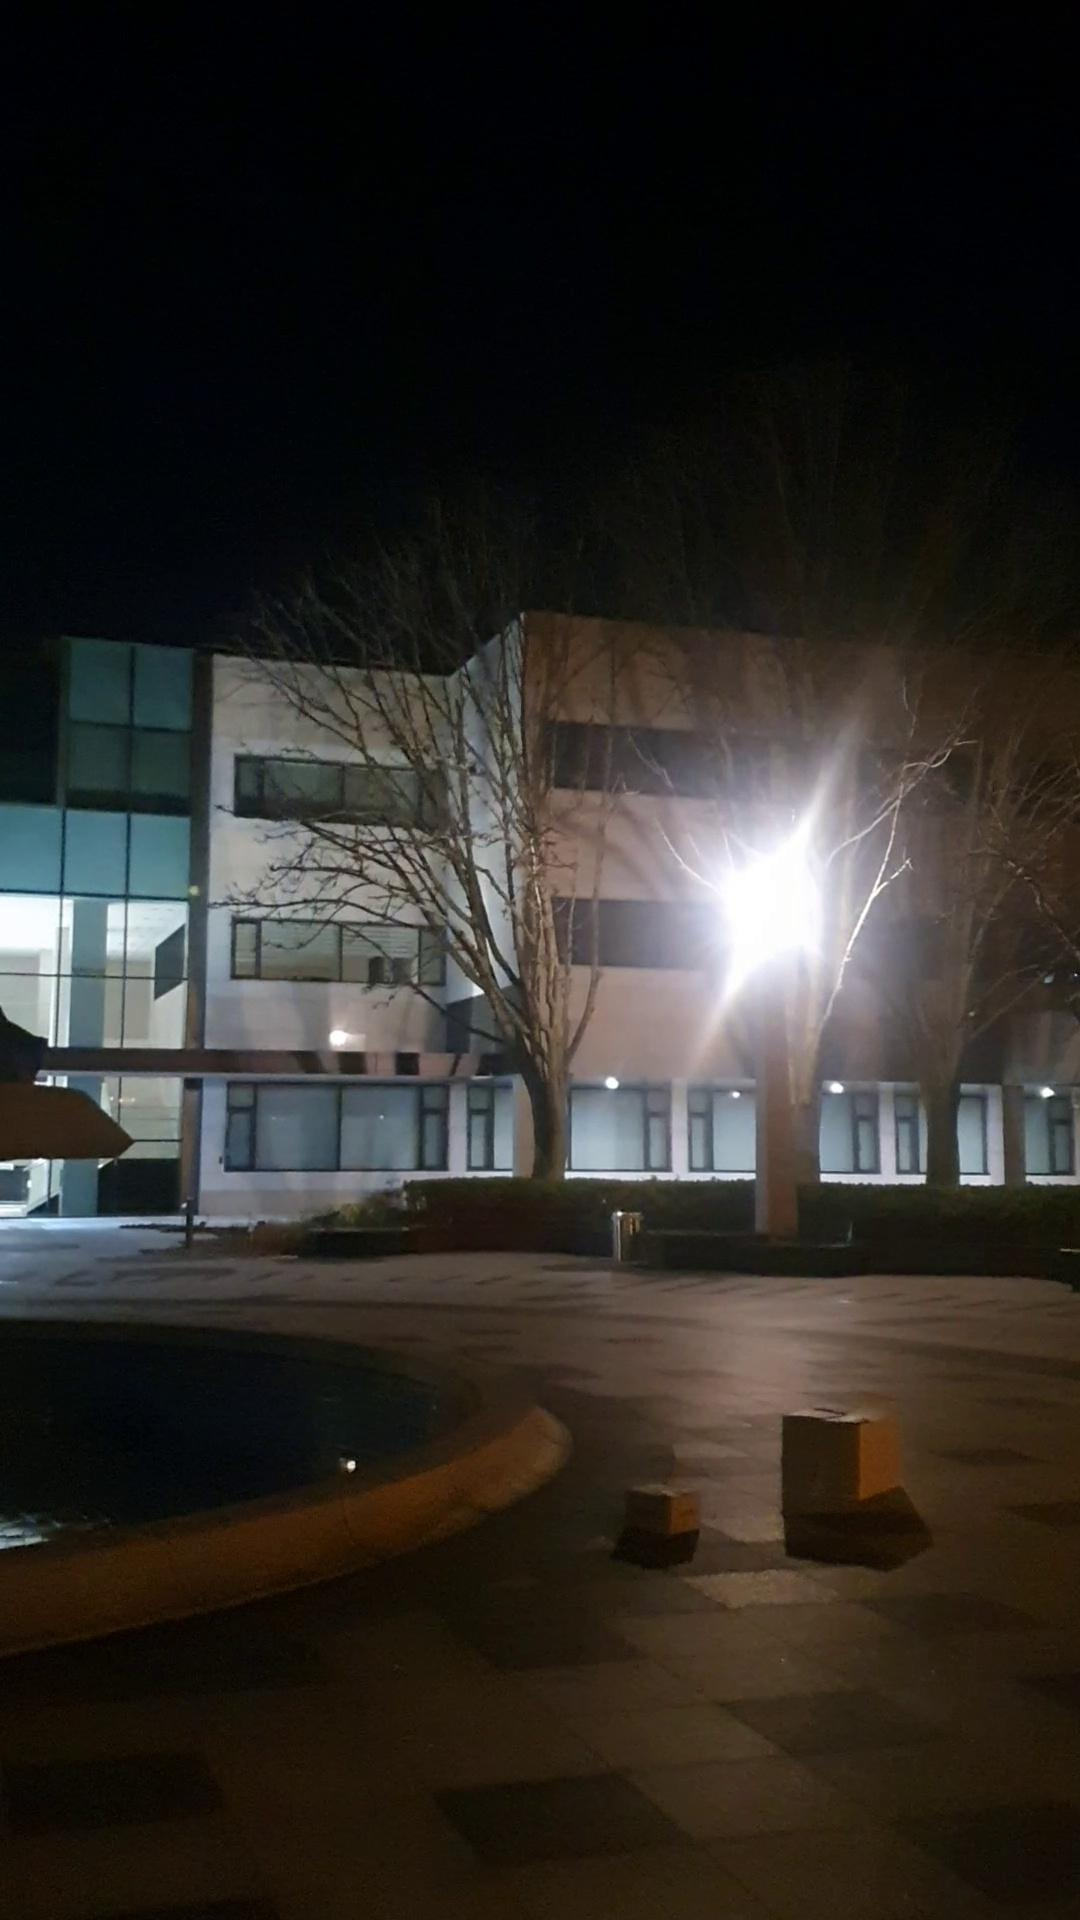Box: (771, 1400, 915, 1527), (603, 1478, 712, 1555)
